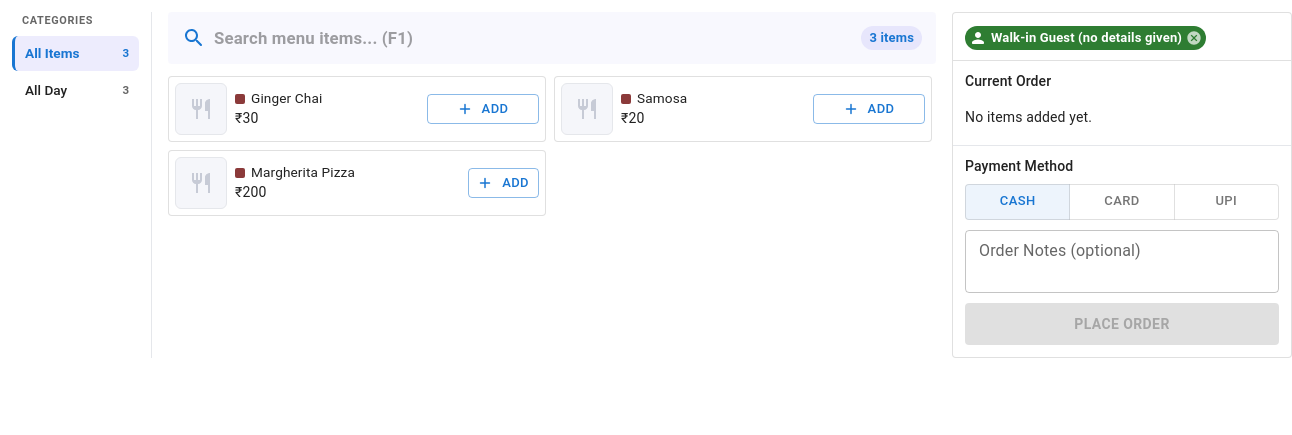
Scenario: PosOrderBuilder - building the cart › increments and decrements the quantity from the menu tile stepper
Check: the text "Ginger Chai" is shown, box [251, 90, 322, 107]
Click the button "Add" next to "Ginger Chai" at point(483, 109), box [427, 94, 539, 124]
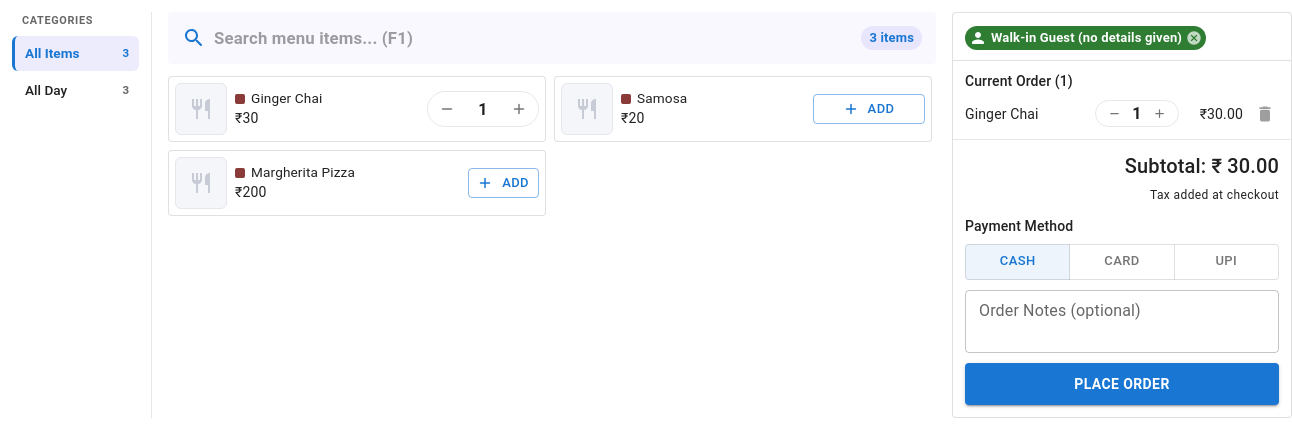
Click the button with test id "AddRoundedIcon" at point(519, 109), box [504, 94, 534, 124]
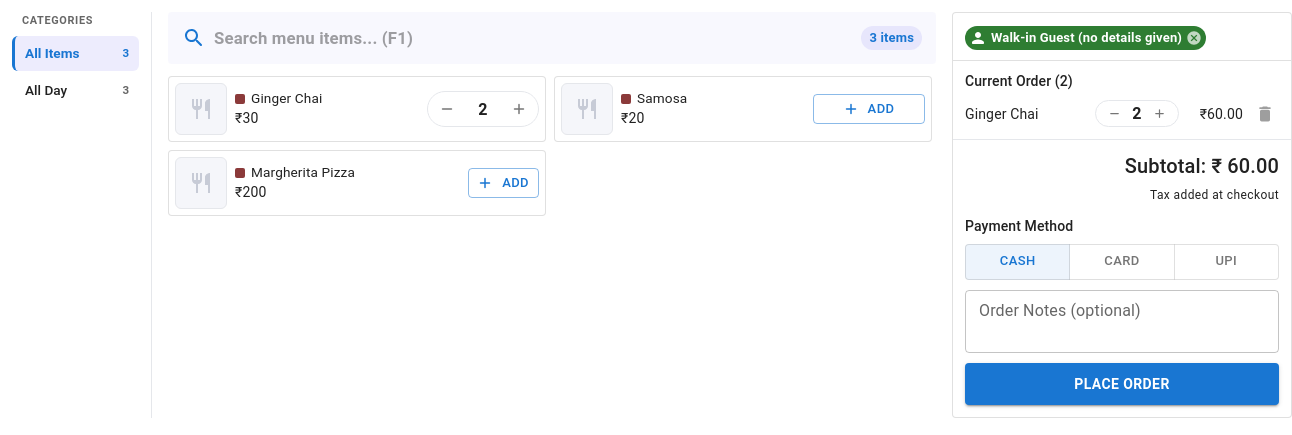
Click the button with test id "AddRoundedIcon" at point(519, 109), box [504, 94, 534, 124]
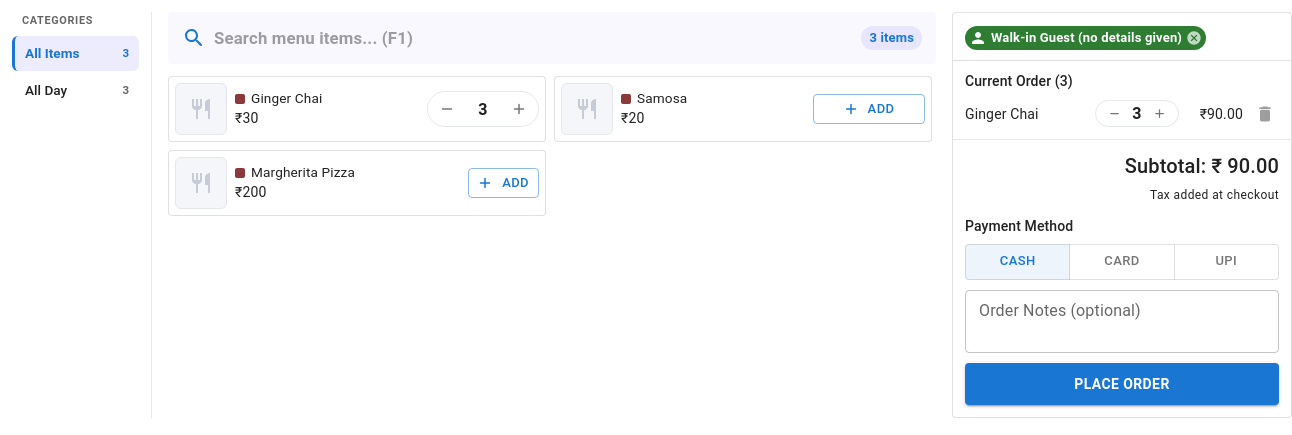
Check: the heading "Subtotal: ₹ 90.00" is shown, box [1125, 154, 1279, 178]
Click the button with test id "RemoveRoundedIcon" at point(447, 109), box [432, 94, 462, 124]
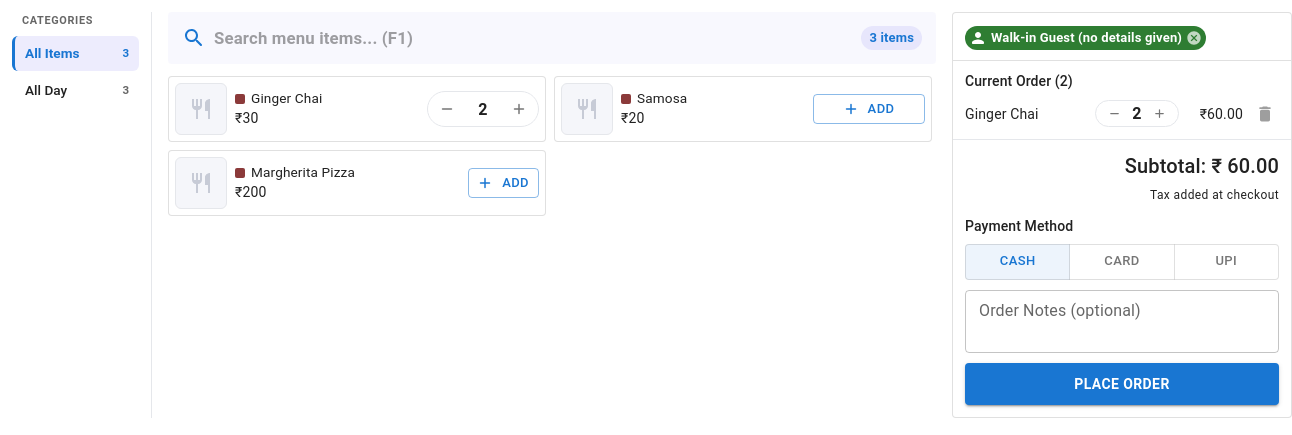
Check: the heading "Subtotal: ₹ 60.00" is shown, box [1125, 154, 1279, 178]
